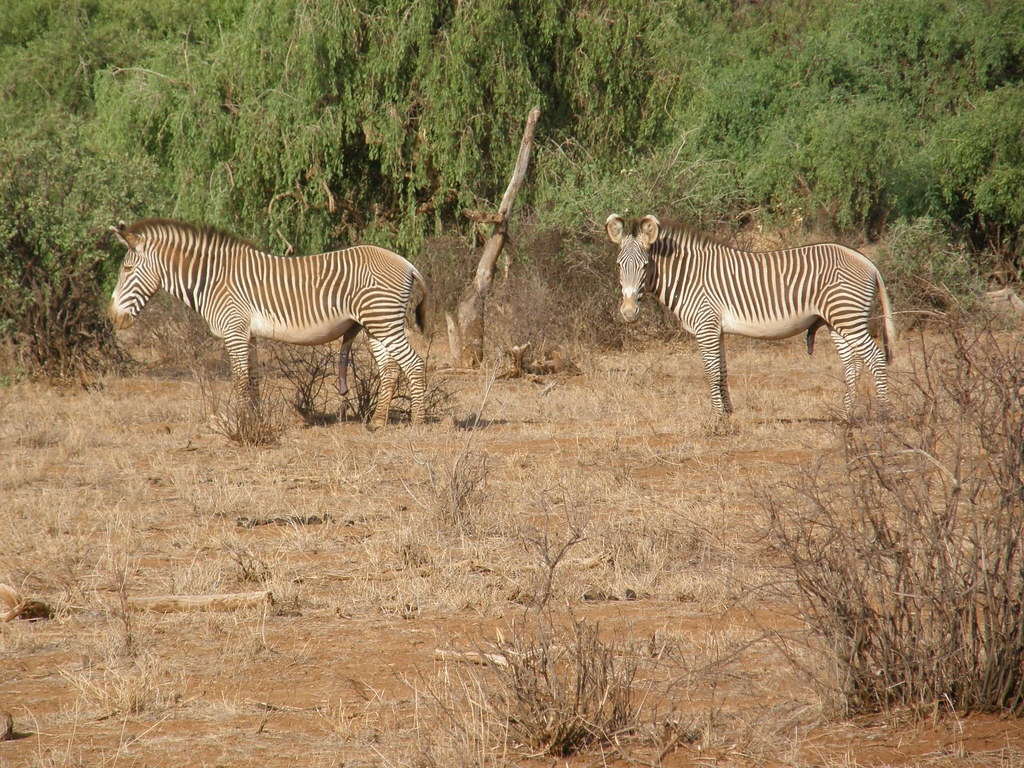zebra: (104, 214, 433, 431), (597, 205, 906, 422)
